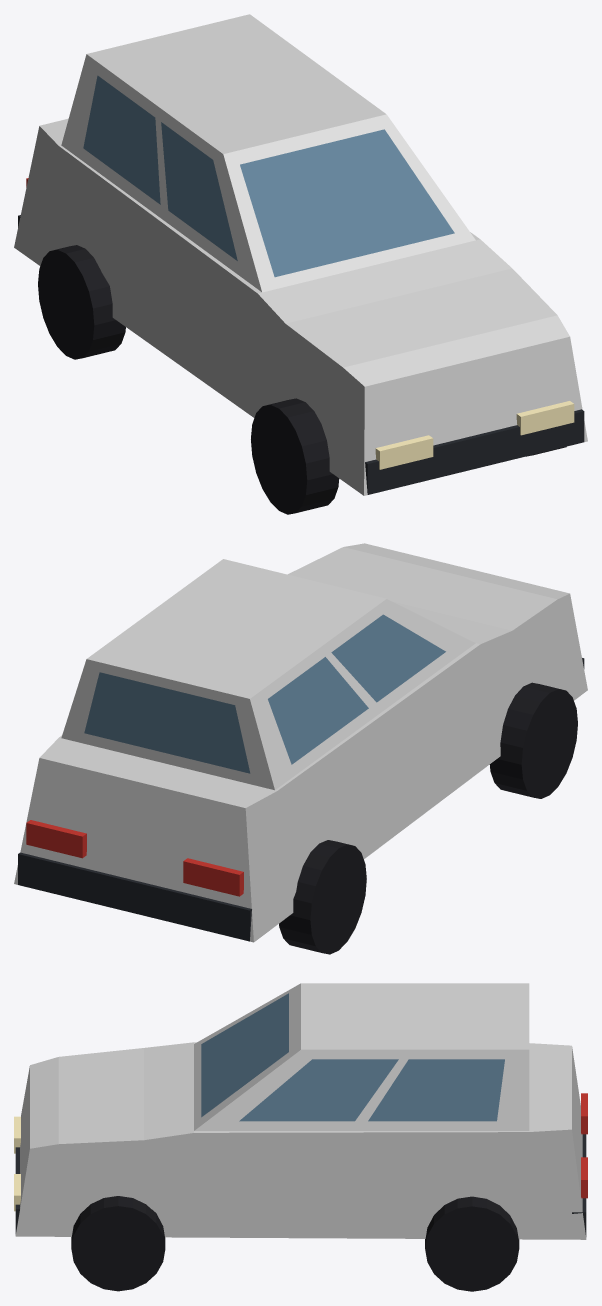
File: suv.glb
3 views of the same model, one above another, from view 1: azimuth 30°, elevation 25°; view 2: azimuth 150°, elevation 25°; view 3: azimuth 270°, elevation 25° (orthographic). The views are drawn at different scales.
Visible parts, largest first — view 1: body, cabin, glass_screen, wheel_1_L_tyre, wheel_0_L_tyre, bumper_nose, glass_side_0_L, glass_side_1_L, head_L, head_R; view 2: body, cabin, glass_back, bumper_tail, wheel_1_L_tyre, wheel_0_L_tyre, glass_side_0_L, glass_side_1_L, tail_L, tail_R; view 3: body, cabin, wheel_1_R_tyre, wheel_0_R_tyre, glass_side_0_R, glass_side_1_R, glass_screen.
Boxes of the visible parts, x1,y1,x2,y2 form: body: (14,118,587,495); cabin: (61,14,475,292); glass_screen: (240,129,454,277); wheel_1_L_tyre: (251,398,339,514); wheel_0_L_tyre: (38,245,125,359); bumper_nose: (365,409,584,494); glass_side_0_L: (83,75,160,204); glass_side_1_L: (161,122,237,260); head_L: (375,435,433,469); head_R: (516,401,574,435); body: (14,543,587,942); cabin: (61,559,475,790); glass_back: (84,672,250,773); bumper_tail: (18,852,251,941); wheel_1_L_tyre: (489,682,577,798); wheel_0_L_tyre: (279,840,366,954); glass_side_0_L: (268,657,368,764); glass_side_1_L: (331,614,445,702); tail_L: (183,858,243,896); tail_R: (26,820,86,858); body: (15,1042,586,1239); cabin: (194,983,529,1130); wheel_1_R_tyre: (71,1196,165,1291); wheel_0_R_tyre: (425,1196,519,1291); glass_side_0_R: (368,1059,504,1121); glass_side_1_R: (239,1059,398,1121); glass_screen: (201,993,288,1117).
Size of the model in its own units: 1.84 by 1.7 by 4.02.
